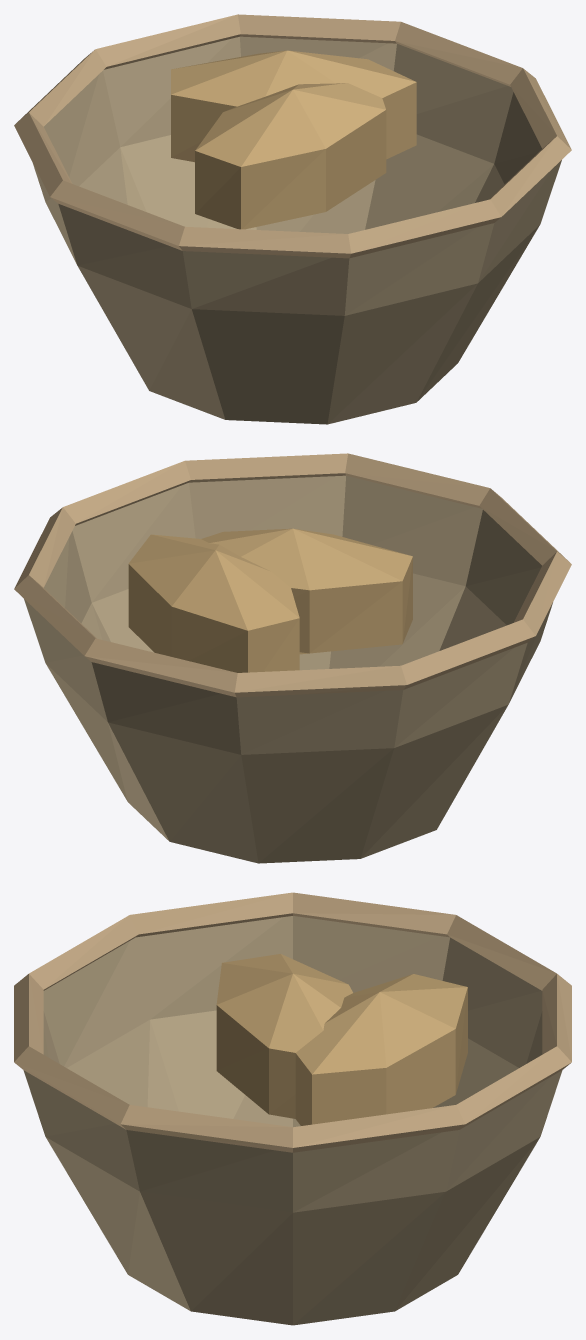
The model's file is basket_bread.glb.
The picture shows the model from 3 angles, top to bottom: view 1: azimuth 30°, elevation 25°; view 2: azimuth 150°, elevation 25°; view 3: azimuth 270°, elevation 25°; orthographic projection. The views are drawn at different scales.
Parts seen in each view (by area): view 1: basket_bread; view 2: basket_bread; view 3: basket_bread.
Part boxes in pixels (x1,y1,x2,y2): basket_bread: (14,14,571,424); basket_bread: (14,453,571,863); basket_bread: (14,892,571,1325).
Size of the model in its own units: 0.676 by 0.354 by 0.6429.
